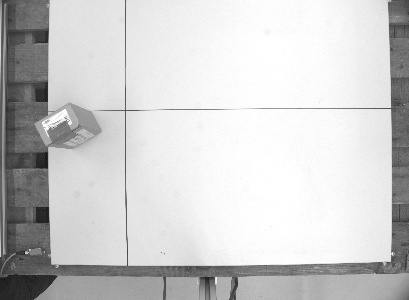b6: (31, 100, 103, 152)
